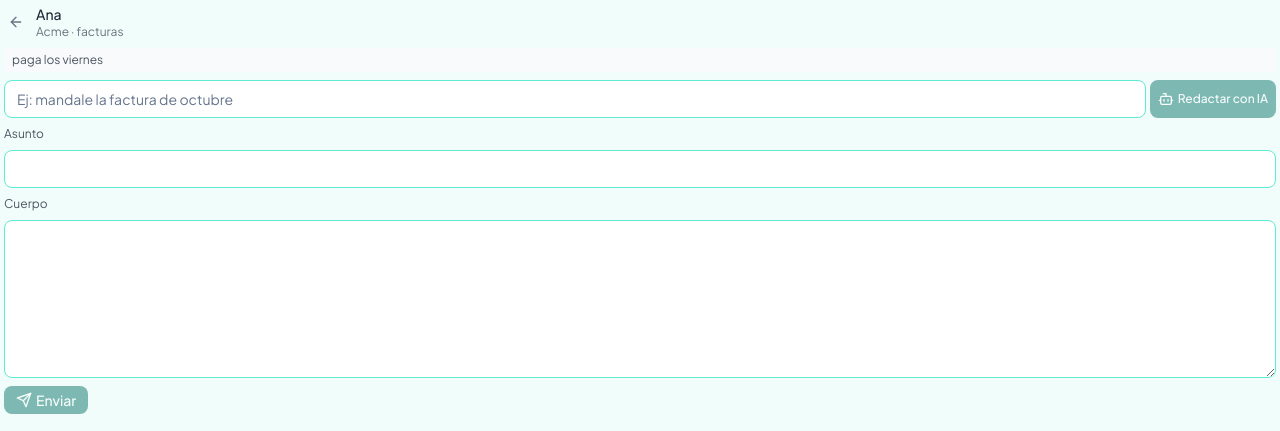
Test: ComposeForm › fills subject and body with the AI draft
The width and height of the screenshot is (1280, 431).
Type "mandale la factura" into the field named "Qué le querés decir" at (575, 99), box [4,80,1146,118]
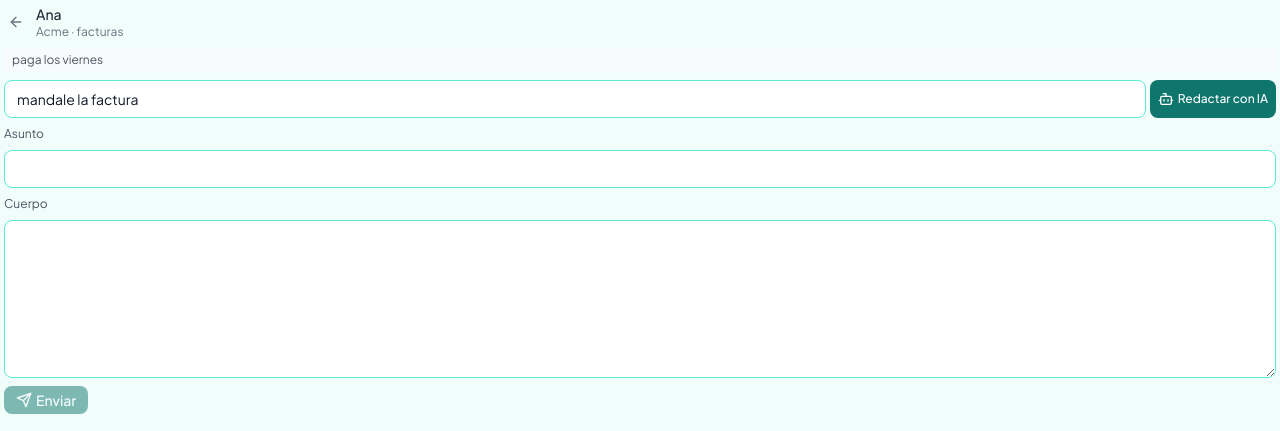
Click the button "Redactar con IA" at (1213, 99), box [1150,80,1276,118]
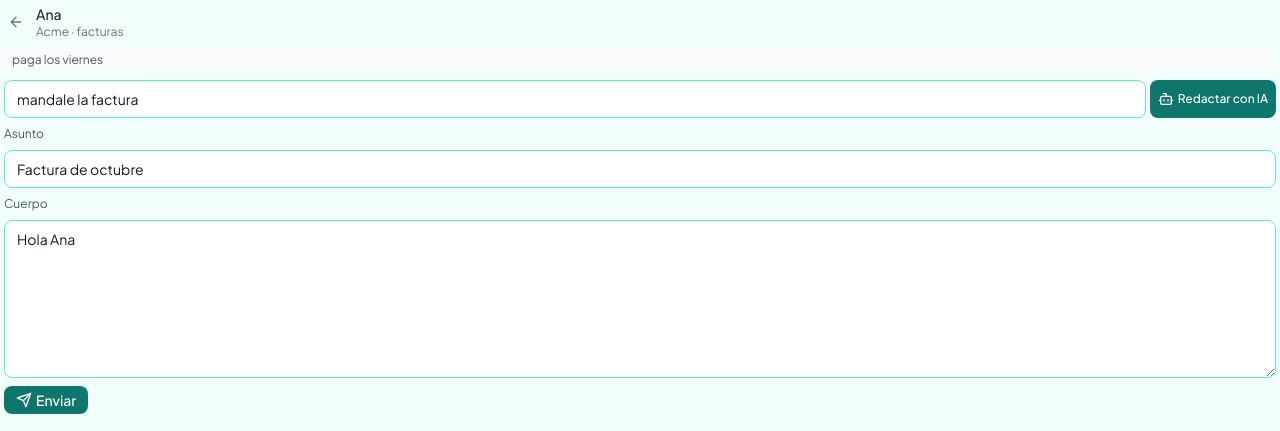
Expected: the field labelled "Asunto" holds "Factura de octubre", [4,150,1276,188]
Expected: the text box labelled "Cuerpo" holds "Hola Ana", [4,220,1276,378]
